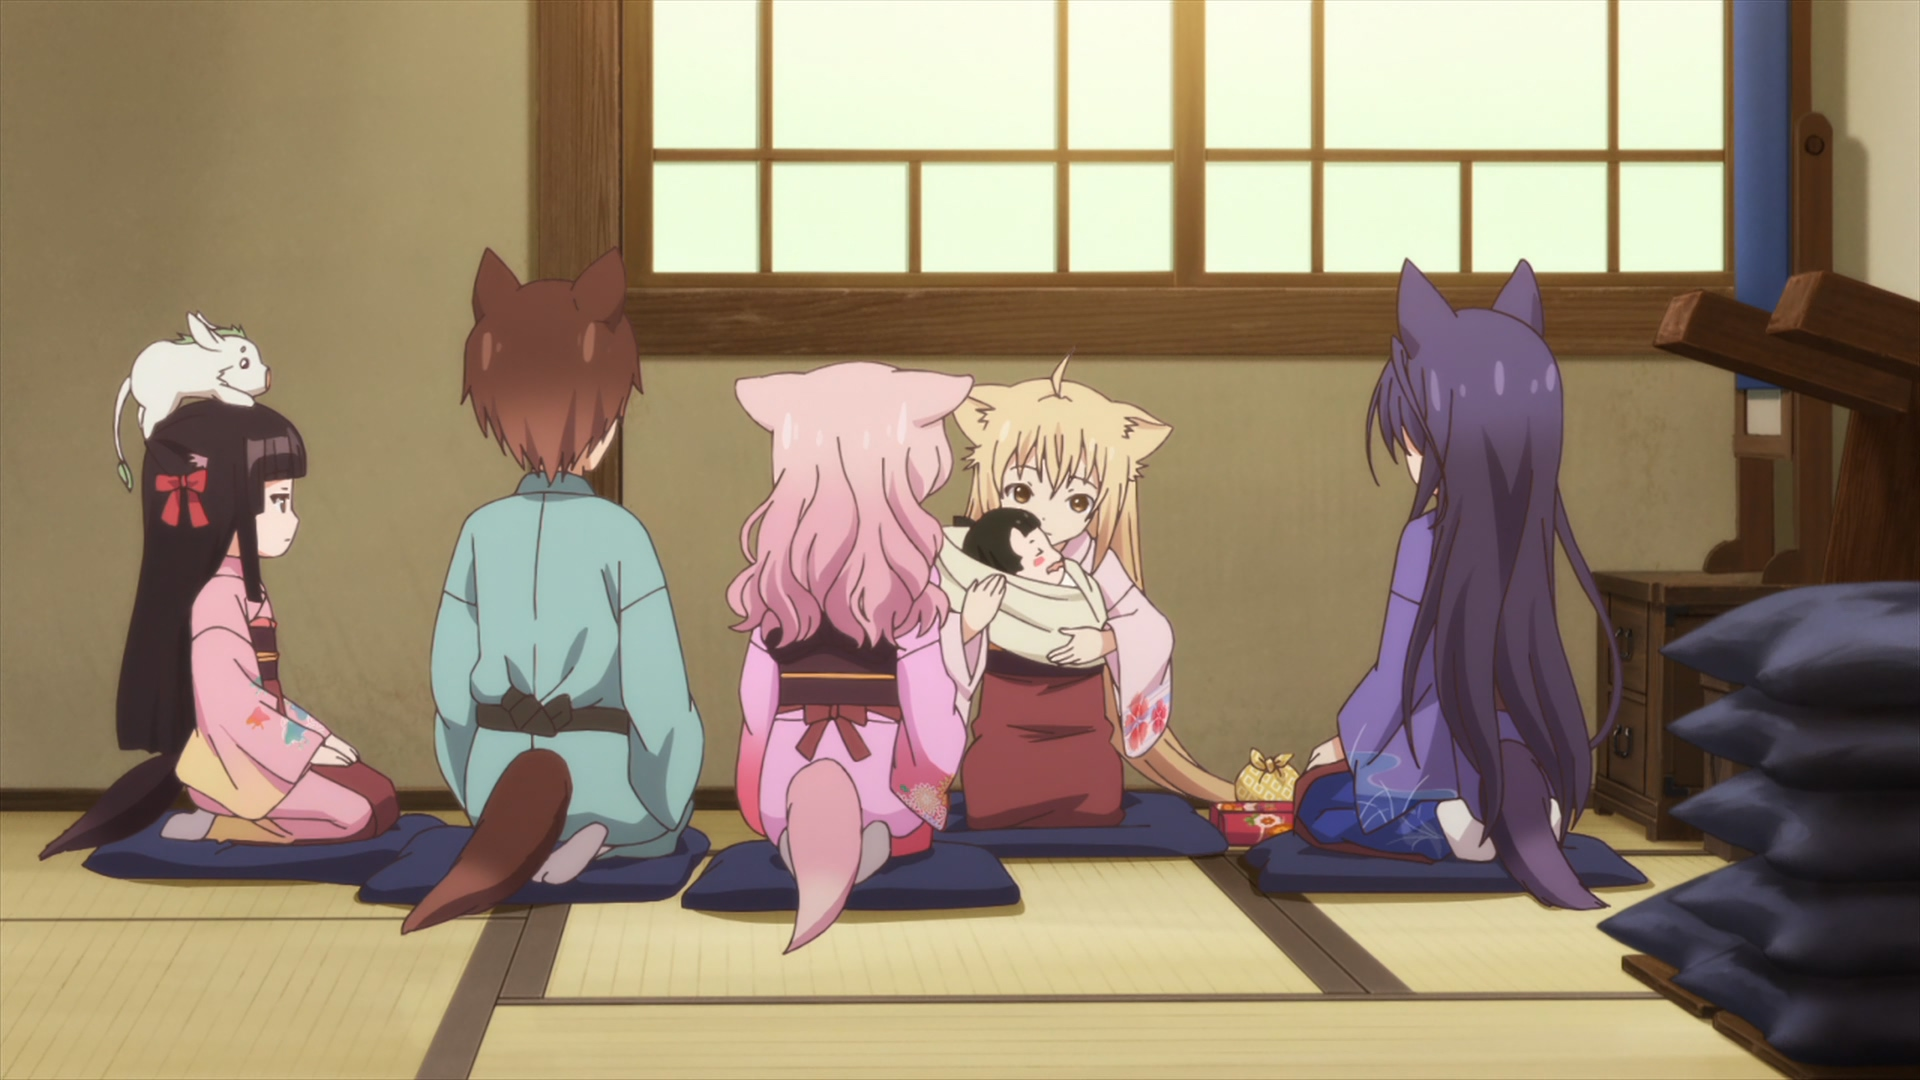其他: (942, 508, 1106, 665)
枣: (398, 249, 705, 932)
柚: (952, 355, 1232, 824)
樱: (45, 405, 392, 860)
瓜之介: (117, 311, 274, 492)
皋: (1290, 257, 1622, 911)
莲: (728, 359, 976, 957)
